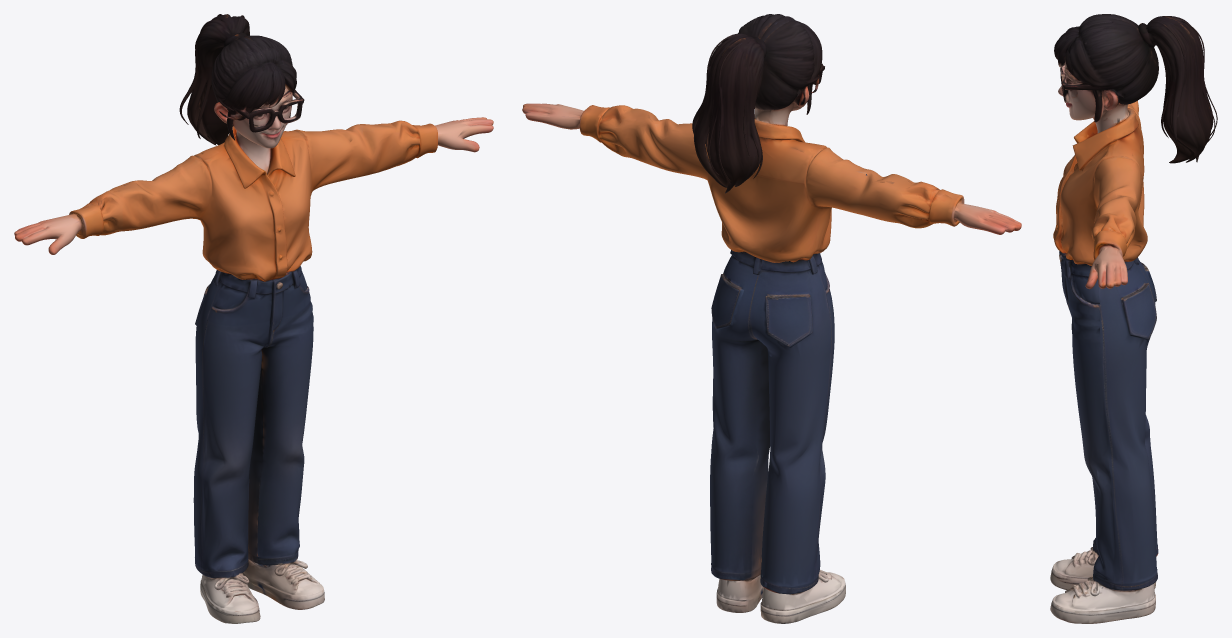
File: female.glb
The picture shows the model from 3 angles, left to right: view 1: azimuth 30°, elevation 25°; view 2: azimuth 150°, elevation 25°; view 3: azimuth 270°, elevation 25°; orthographic projection. The views are drawn at different scales.
Visible parts, largest first — view 1: node_0; view 2: node_0; view 3: node_0.
Part boxes in pixels (<box>): node_0: <box>14,14,493,623</box>; node_0: <box>522,14,1021,623</box>; node_0: <box>1050,14,1217,623</box>.
Size of the model in its own units: 1.03 by 1.16 by 0.3022.
Materials: 1 (1 with a texture image).
